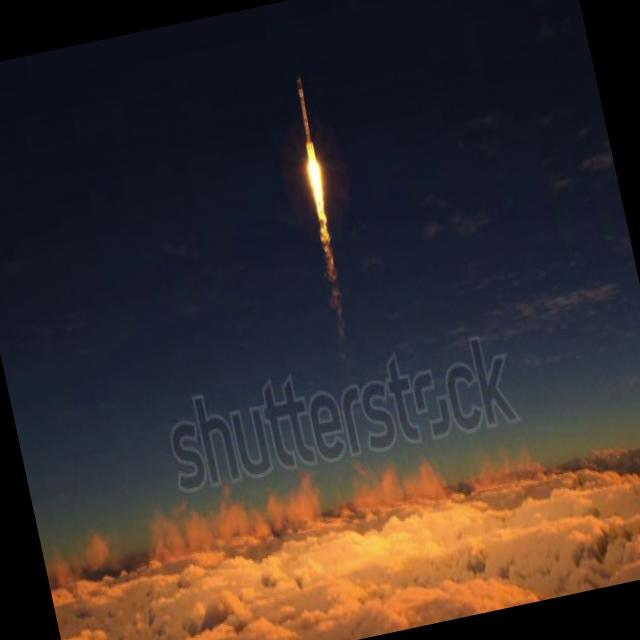rocket: (281, 74, 351, 286)
